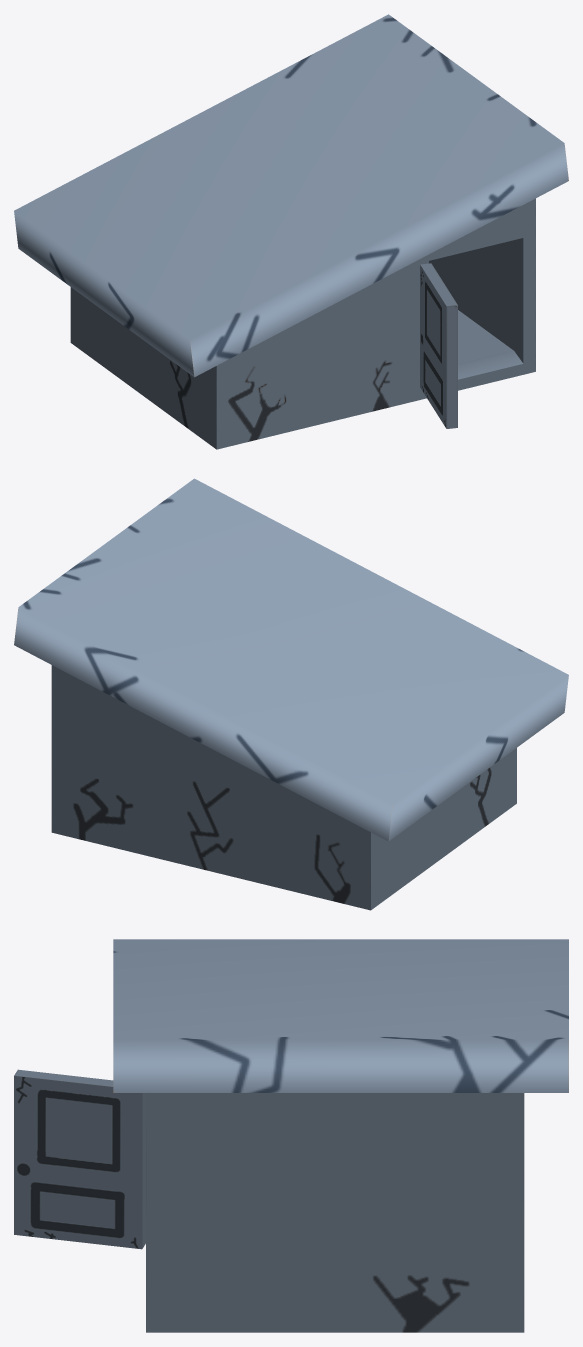
The model's file is M_SpringDadHouse_OR.fbx.
3 views of the same model, one above another, from view 1: azimuth 30°, elevation 25°; view 2: azimuth 150°, elevation 25°; view 3: azimuth 270°, elevation 25° (orthographic). The views are drawn at different scales.
Visible parts, largest first — view 1: SpringDad_House, Door; view 2: SpringDad_House; view 3: SpringDad_House, Door.
Boxes of the visible parts, bbox=[...] form: SpringDad_House: bbox=[14, 14, 568, 449]; Door: bbox=[420, 263, 457, 428]; SpringDad_House: bbox=[14, 478, 568, 910]; SpringDad_House: bbox=[113, 939, 568, 1332]; Door: bbox=[14, 1069, 145, 1249].
Size of the model in its own units: 22.46 by 13.26 by 22.
Materials: 1 (1 with a texture image).
